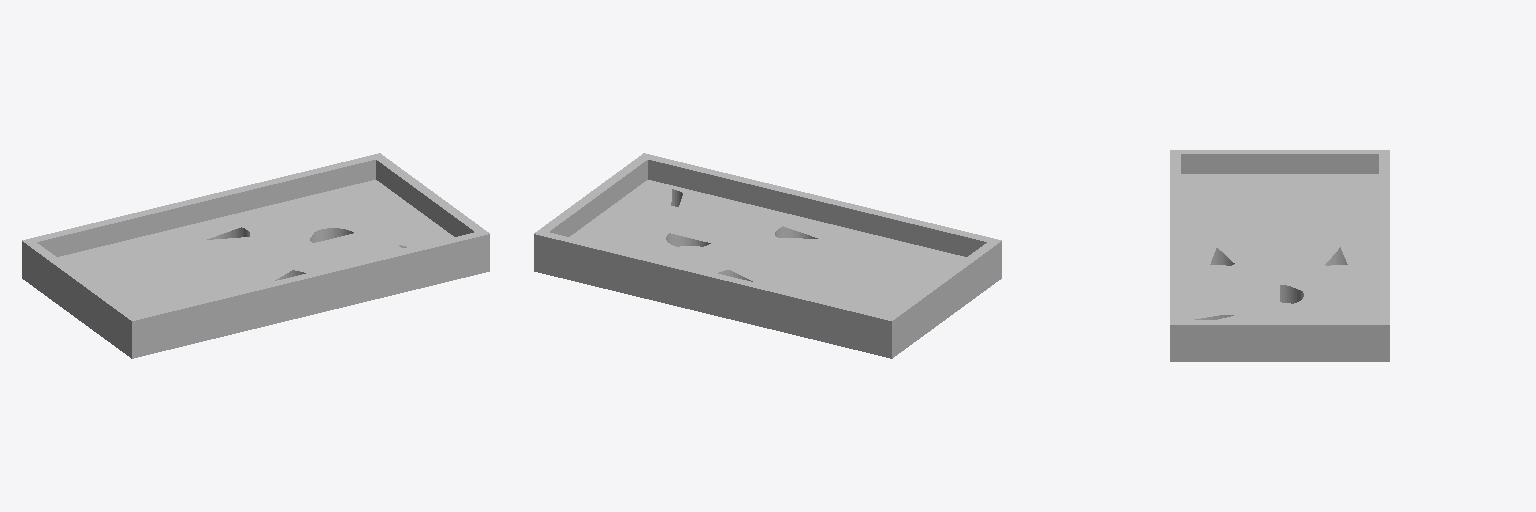
The model's file is night4.obj.
The picture shows the model from 3 angles: view 1: azimuth 30°, elevation 25°; view 2: azimuth 150°, elevation 25°; view 3: azimuth 270°, elevation 25°; orthographic projection.
Visible parts, largest first — view 1: Cube; view 2: Cube; view 3: Cube.
Part boxes in pixels (bbox=[...]): Cube: bbox=[22, 153, 489, 358]; Cube: bbox=[534, 153, 1001, 358]; Cube: bbox=[1170, 150, 1389, 361].
Bounding box in the file's own units: 3 × 0.3 × 1.6.